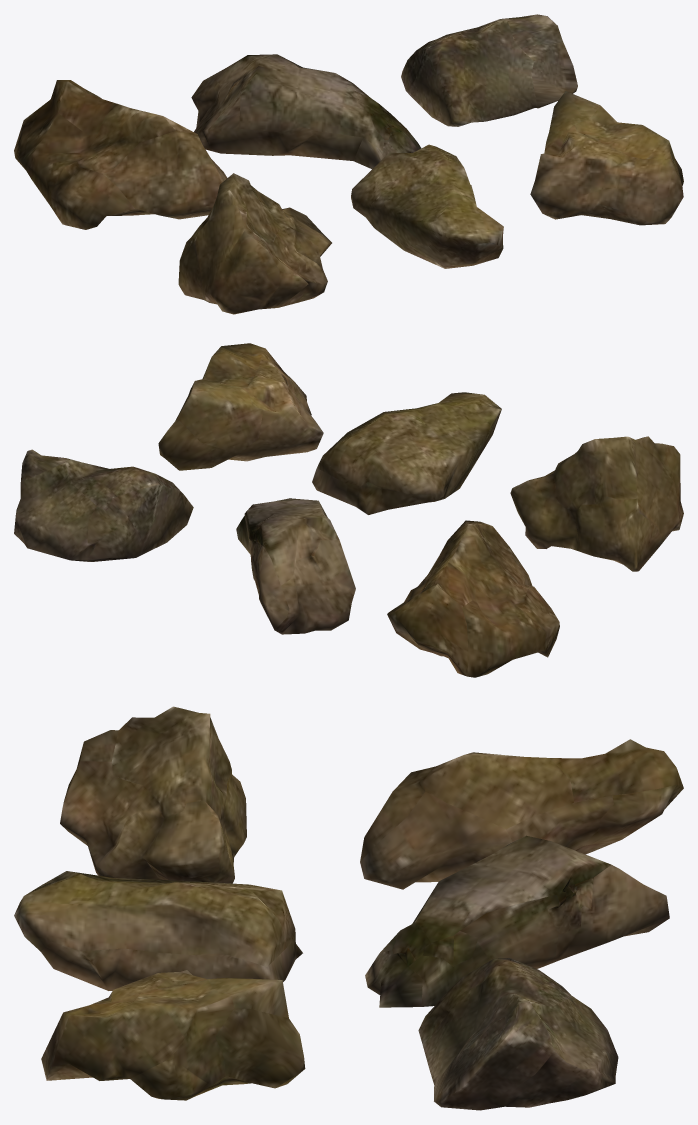
File: rock_moss_set_01_lod2.glb
3 views of the same model, one above another, from view 1: azimuth 30°, elevation 25°; view 2: azimuth 150°, elevation 25°; view 3: azimuth 270°, elevation 25° (orthographic). The views are drawn at different scales.
Visible parts, largest first — view 1: rock_moss_set_01_rock01, rock_moss_set_01_rock02, rock_moss_set_01_rock06, rock_moss_set_01_rock04, rock_moss_set_01_rock03, rock_moss_set_01_rock05; view 2: rock_moss_set_01_rock04, rock_moss_set_01_rock01, rock_moss_set_01_rock03, rock_moss_set_01_rock05, rock_moss_set_01_rock06, rock_moss_set_01_rock02; view 3: rock_moss_set_01_rock01, rock_moss_set_01_rock02, rock_moss_set_01_rock05, rock_moss_set_01_rock04, rock_moss_set_01_rock06, rock_moss_set_01_rock03.
Part boxes in pixels (box(x1,y1,x2,y2)): rock_moss_set_01_rock01: box(14, 80, 227, 229); rock_moss_set_01_rock02: box(191, 54, 421, 168); rock_moss_set_01_rock06: box(530, 91, 683, 225); rock_moss_set_01_rock04: box(178, 173, 331, 314); rock_moss_set_01_rock03: box(401, 14, 577, 126); rock_moss_set_01_rock05: box(351, 144, 503, 268); rock_moss_set_01_rock04: box(510, 436, 683, 571); rock_moss_set_01_rock01: box(387, 520, 559, 677); rock_moss_set_01_rock03: box(14, 449, 193, 561); rock_moss_set_01_rock05: box(312, 392, 501, 514); rock_moss_set_01_rock06: box(158, 343, 323, 470); rock_moss_set_01_rock02: box(236, 498, 355, 634); rock_moss_set_01_rock01: box(360, 739, 683, 889); rock_moss_set_01_rock02: box(365, 835, 669, 1007); rock_moss_set_01_rock05: box(14, 871, 302, 990); rock_moss_set_01_rock04: box(60, 706, 246, 883); rock_moss_set_01_rock06: box(41, 970, 305, 1100); rock_moss_set_01_rock03: box(418, 958, 618, 1110).
Size of the model in its own units: 7.98 by 1.76 by 6.94.
Materials: 1 (1 with a texture image).
